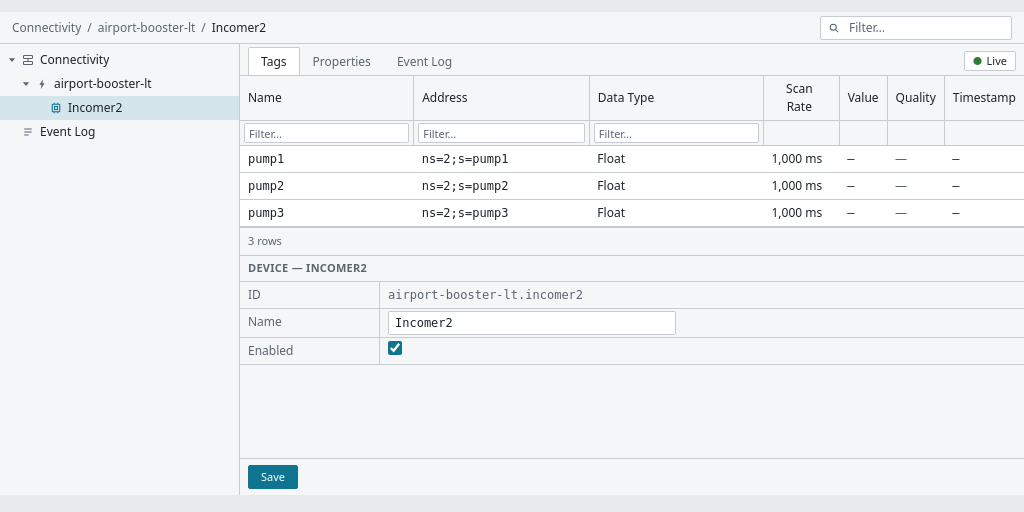
Test case: ConnectivityPage tag row selection › switches the inspector when clicking another tag row
Click the text "pump1". click: [266, 159]
box: x1=248 y1=152 x2=284 y2=166
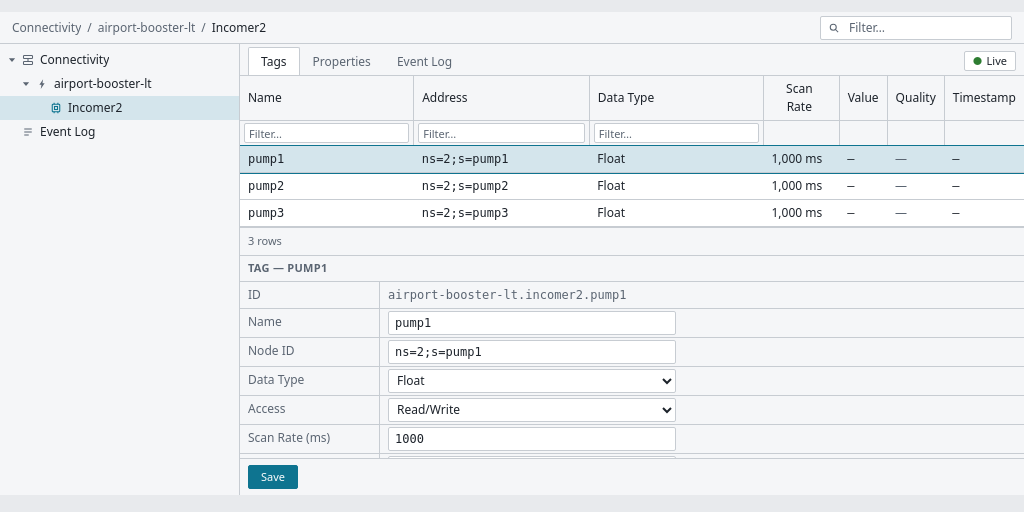
Expected: the heading "Tag — pump1" is shown, x1=240 y1=256 x2=1023 y2=282
Click the text "pump2". click: [266, 186]
box: x1=248 y1=179 x2=284 y2=193
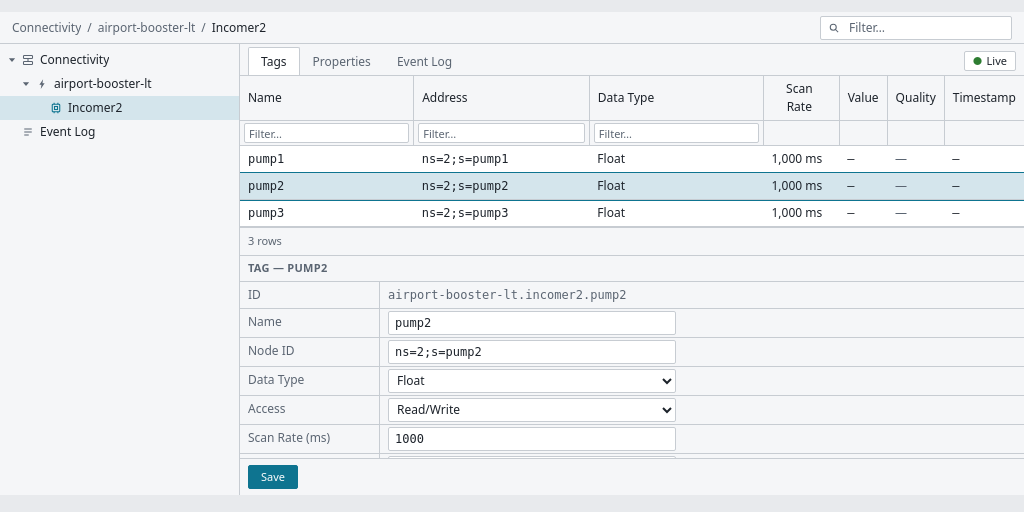
Expected: the heading "Tag — pump2" is shown, x1=240 y1=256 x2=1023 y2=282
